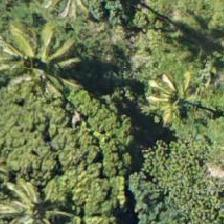coconut_tree: (124, 36, 214, 126), (0, 11, 83, 101), (0, 168, 74, 223)
